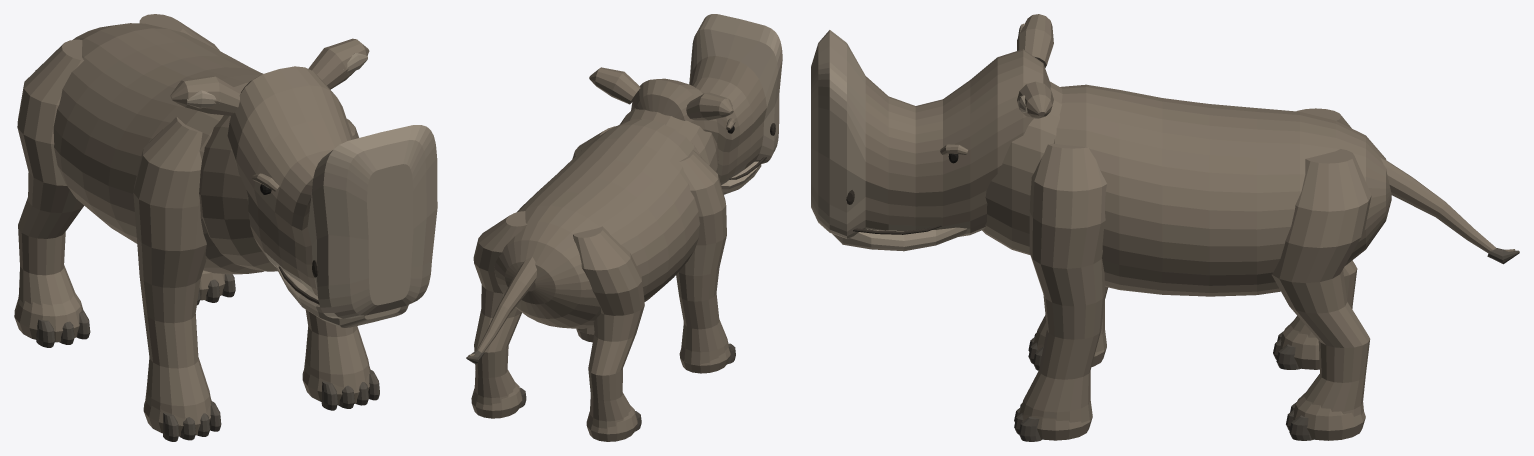
3 views of the same model, side by side, from view 1: azimuth 30°, elevation 25°; view 2: azimuth 150°, elevation 25°; view 3: azimuth 270°, elevation 25° (orthographic). The views are drawn at different scales.
Parts seen in each view (by area): view 1: integrated-nasal-ram-snout-cheek, barrel-shoulder-and-rump, left-fore-limb, left-hind-limb, strong-neck, right-fore-limb, left-hind-foot-pad, left-ear, right-ear, lower-lip-chin, right-hind-limb, left-fore-foot-pad (+3 smaller); view 2: barrel-shoulder-and-rump, integrated-nasal-ram-snout-cheek, left-hind-limb, left-fore-limb, right-hind-limb, tapering-tail, strong-neck, right-ear, left-ear, left-hind-foot-pad, right-hind-foot-pad, left-fore-foot-pad (+1 smaller); view 3: barrel-shoulder-and-rump, integrated-nasal-ram-snout-cheek, right-fore-limb, right-hind-limb, strong-neck, tapering-tail, right-hind-foot-pad, lower-lip-chin, left-ear, left-hind-foot-pad, left-hind-limb, right-fore-foot-pad (+1 smaller).
Boxes of the visible parts, x1,y1,x2,y2 form: integrated-nasal-ram-snout-cheek: (227, 66, 437, 318); barrel-shoulder-and-rump: (53, 23, 263, 274); left-fore-limb: (133, 116, 210, 424); left-hind-limb: (17, 39, 84, 305); strong-neck: (199, 115, 277, 271); right-fore-limb: (304, 119, 369, 392); left-hind-foot-pad: (14, 292, 83, 342); left-ear: (170, 75, 240, 115); right-ear: (308, 38, 369, 89); lower-lip-chin: (276, 265, 408, 327); right-hind-limb: (139, 14, 219, 50); left-fore-foot-pad: (143, 398, 211, 436); barrel-shoulder-and-rump: (494, 119, 701, 328); integrated-nasal-ram-snout-cheek: (631, 14, 782, 185); left-hind-limb: (573, 226, 644, 428); left-fore-limb: (676, 150, 728, 365); right-hind-limb: (473, 211, 527, 405); tapering-tail: (468, 257, 536, 356); strong-neck: (620, 108, 718, 172); right-ear: (589, 67, 640, 104); left-ear: (686, 92, 733, 120); left-hind-foot-pad: (586, 405, 637, 441); right-hind-foot-pad: (471, 382, 522, 418); left-fore-foot-pad: (679, 344, 730, 373); barrel-shoulder-and-rump: (1053, 84, 1391, 296); integrated-nasal-ram-snout-cheek: (811, 30, 1050, 238); right-fore-limb: (1019, 143, 1106, 422); right-hind-limb: (1271, 149, 1371, 416); strong-neck: (982, 81, 1062, 254); tapering-tail: (1380, 157, 1515, 253); right-hind-foot-pad: (1292, 392, 1365, 440); lower-lip-chin: (832, 227, 967, 251); left-ear: (1017, 14, 1053, 67); left-hind-foot-pad: (1280, 321, 1319, 369); left-hind-limb: (1291, 108, 1357, 337); right-fore-foot-pad: (1022, 415, 1092, 440).
Size of the model in its own units: 1.65 by 2.68 by 4.94.
